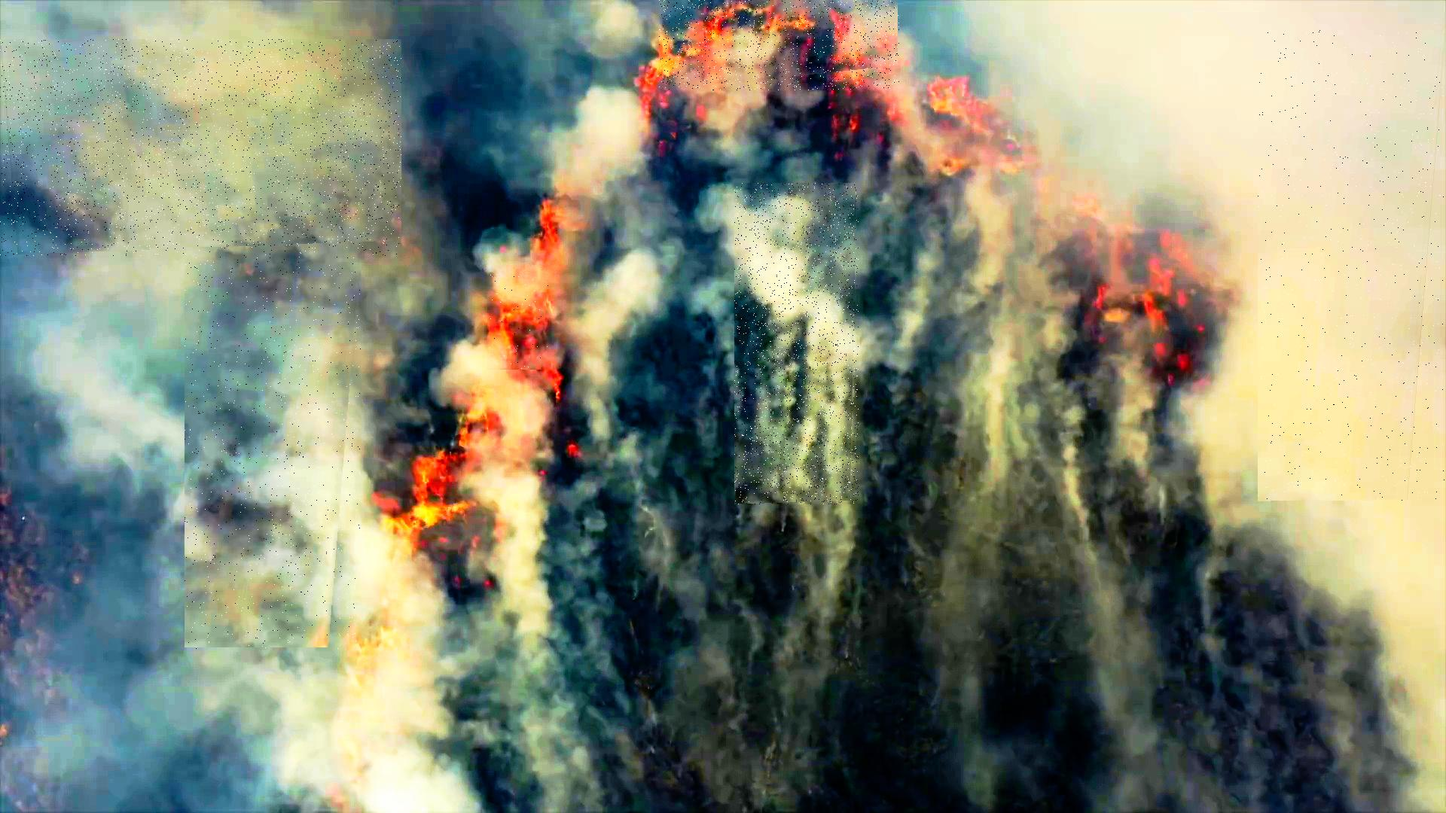fire: (659, 0, 900, 91), (487, 271, 548, 370)
smoke: (1258, 30, 1446, 501), (0, 40, 401, 257), (185, 249, 361, 650), (735, 183, 859, 505)
